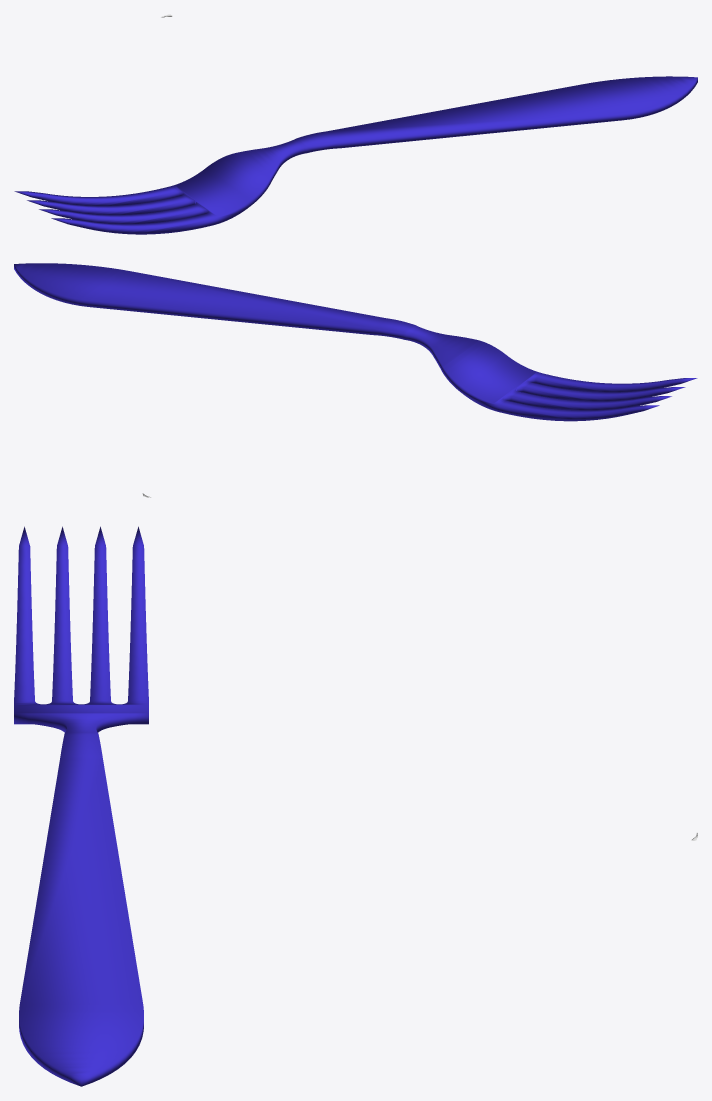
File: fork_blue_plastic.dae
3 renders of one model, top to bottom at view 1: azimuth 30°, elevation 25°; view 2: azimuth 150°, elevation 25°; view 3: azimuth 270°, elevation 25°, orthographic. The views are drawn at different scales.
Visible parts, largest first — view 1: group_0; view 2: group_0; view 3: group_0.
Boxes of the visible parts, x1,y1,x2,y2 form: group_0: (14, 76, 697, 234); group_0: (14, 263, 697, 421); group_0: (14, 526, 148, 1086).
Size of the model in its own units: 0.21 by 0.1216 by 0.013.
